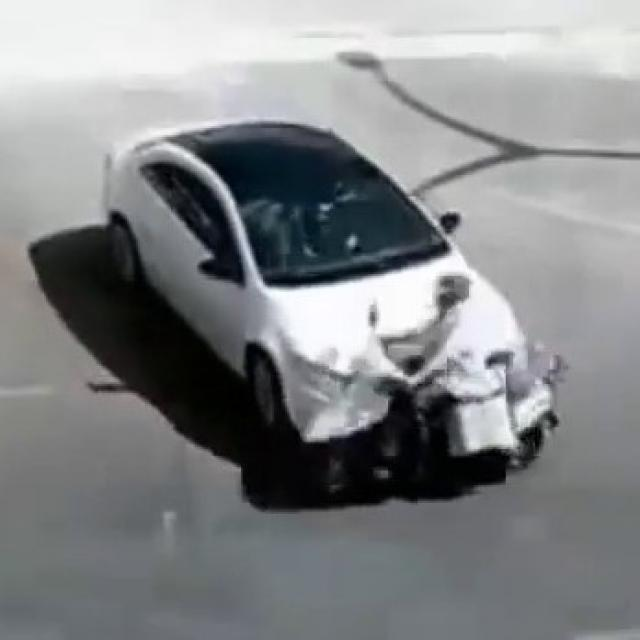accident: (100, 123, 588, 530)
